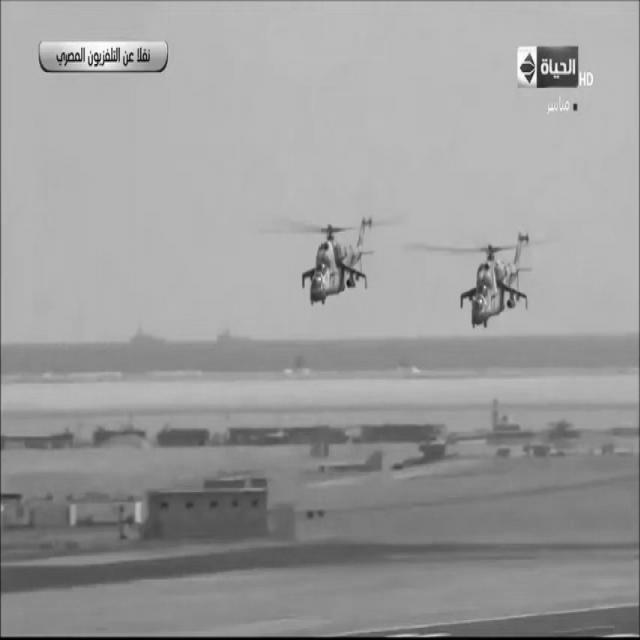helikopter: (427, 224, 540, 343), (286, 213, 384, 315)
